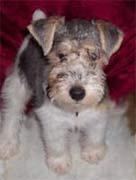wire-haired_fox_terrier: (0, 7, 127, 176)
